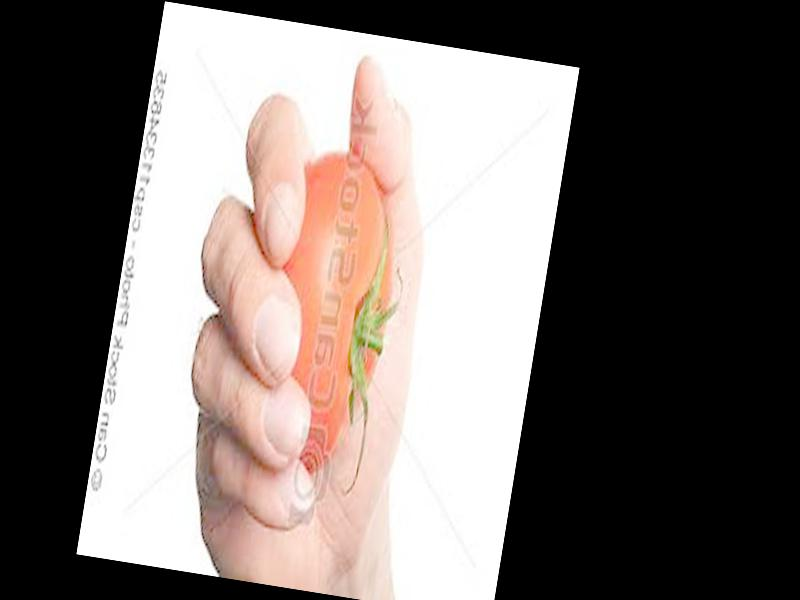Tomato: (255, 147, 410, 478)
